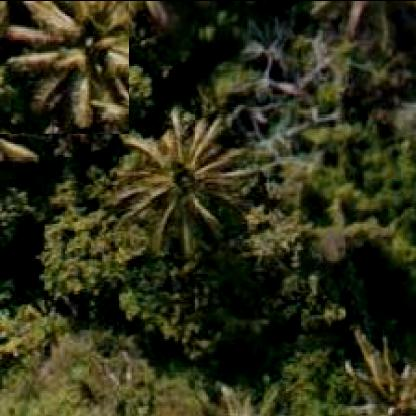coconut tree: (117, 104, 257, 252), (0, 1, 131, 134)
